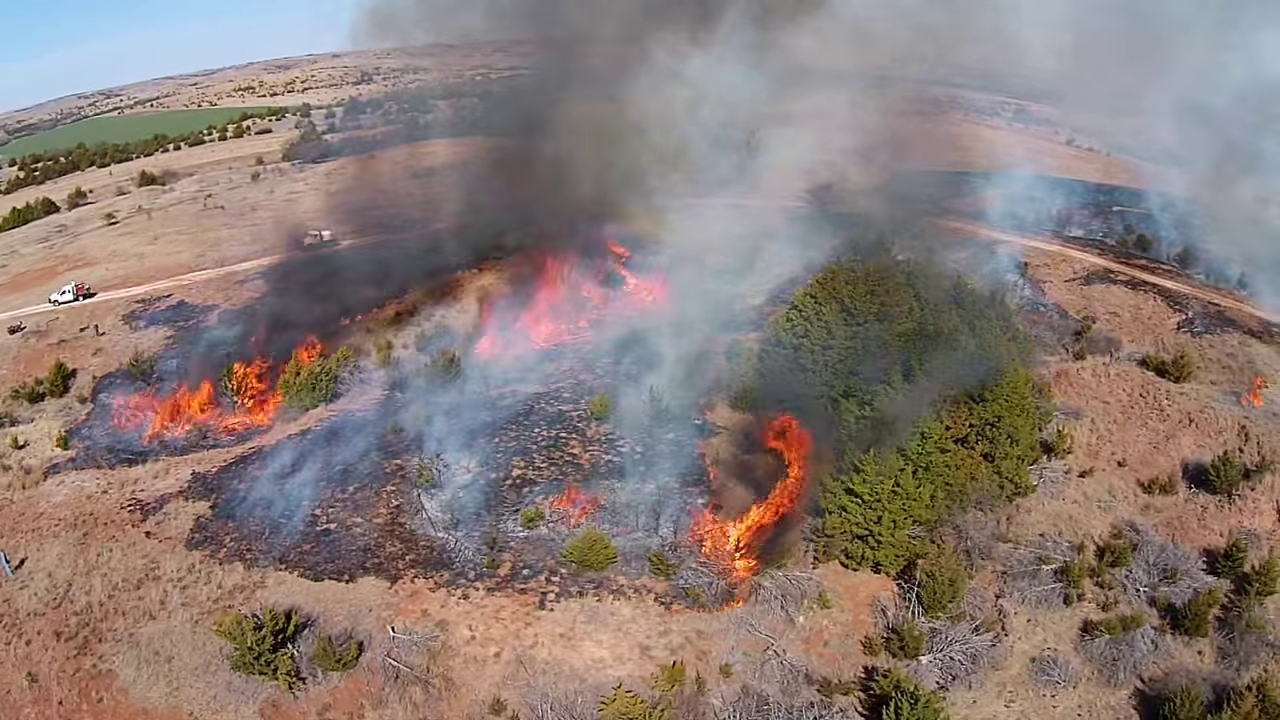forest_fire: (473, 238, 664, 355), (690, 413, 812, 580), (113, 357, 280, 442), (547, 482, 600, 526), (1240, 375, 1267, 407), (291, 337, 321, 364)
